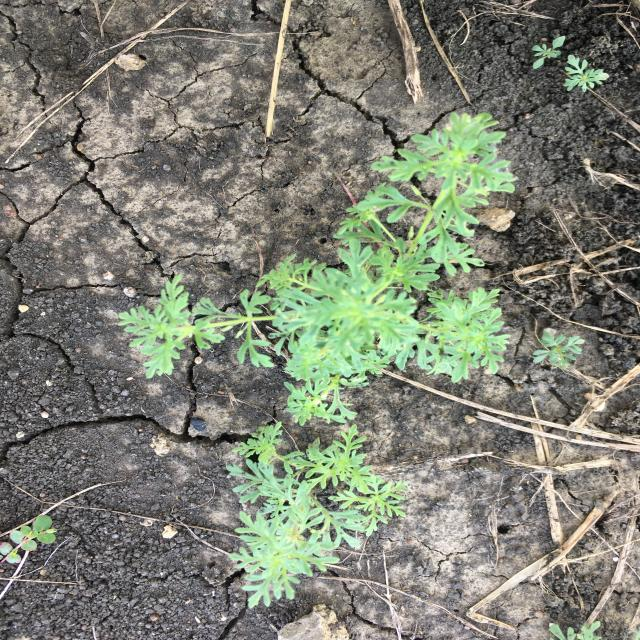Ragweed: (114, 111, 522, 426), (223, 418, 412, 611), (529, 324, 589, 373), (563, 53, 613, 94), (531, 34, 567, 71), (546, 620, 605, 640)
SpottedSpurge: (1, 514, 59, 566)
